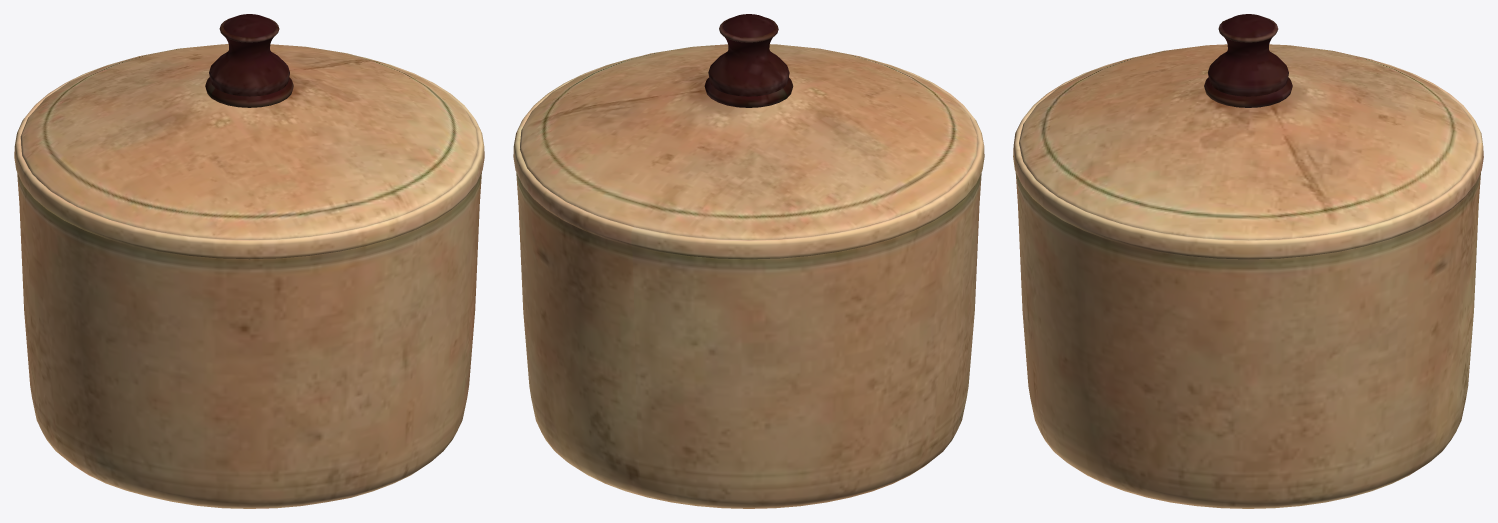
The model's file is brass_pot_01.glb.
The picture shows the model from 3 angles, left to right: view 1: azimuth 30°, elevation 25°; view 2: azimuth 150°, elevation 25°; view 3: azimuth 270°, elevation 25°; orthographic projection.
Parts seen in each view (by area): view 1: brass_pot_01; view 2: brass_pot_01; view 3: brass_pot_01.
Boxes of the visible parts, x1,y1,x2,y2 form: brass_pot_01: (14, 14, 484, 508); brass_pot_01: (513, 14, 984, 508); brass_pot_01: (1013, 14, 1483, 508).
Size of the model in its own units: 0.3019 by 0.2909 by 0.3017.
Materials: 1 (1 with a texture image).
